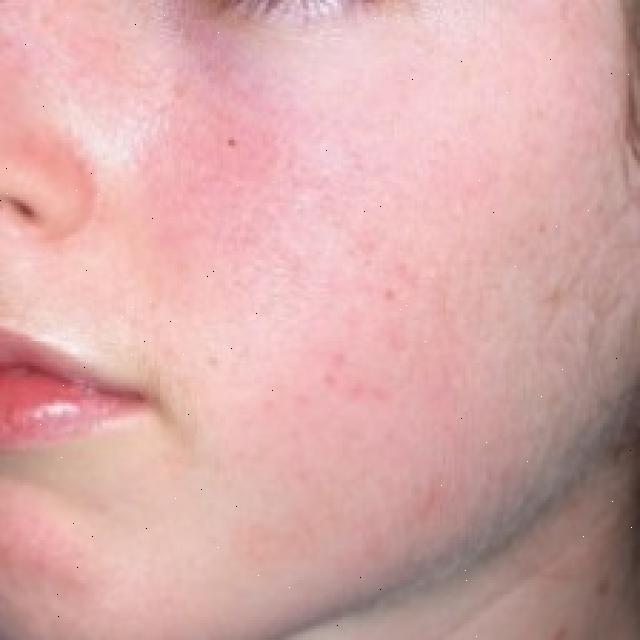Acne: (150, 33, 591, 508)
